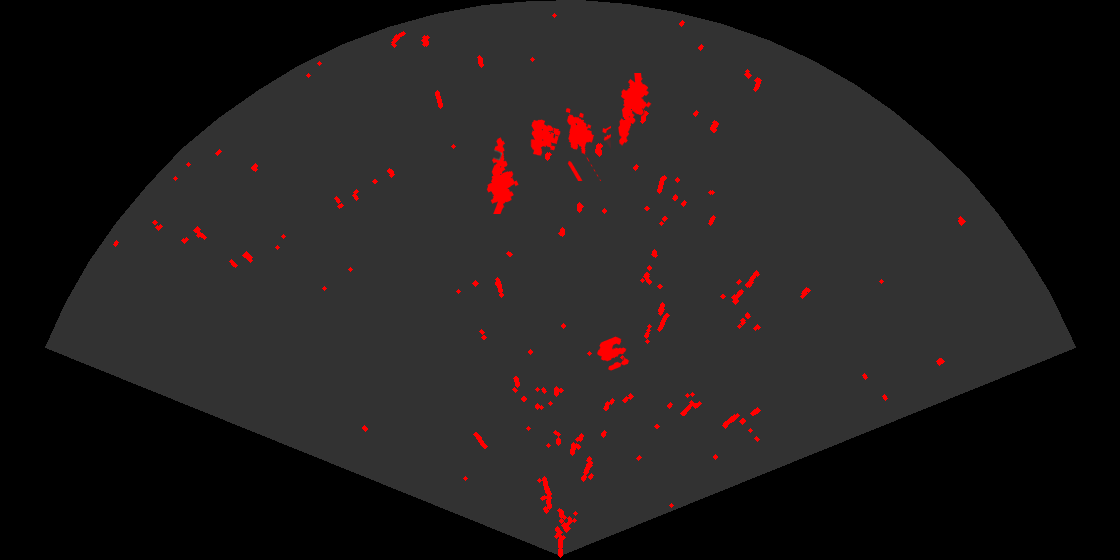ball: (595, 335, 631, 372)
cage: (529, 106, 611, 181)
frogman: (485, 136, 520, 214), (617, 73, 653, 146)
